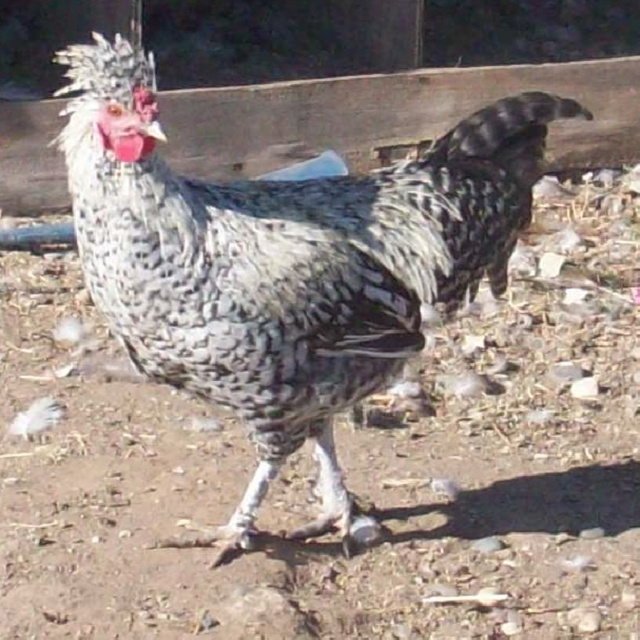Chicken: (43, 44, 590, 583)
